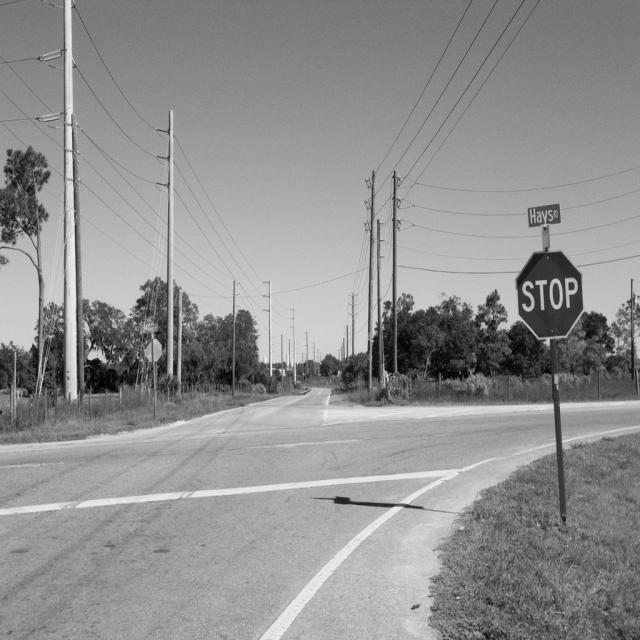Stop-sign: (516, 251, 584, 336)
